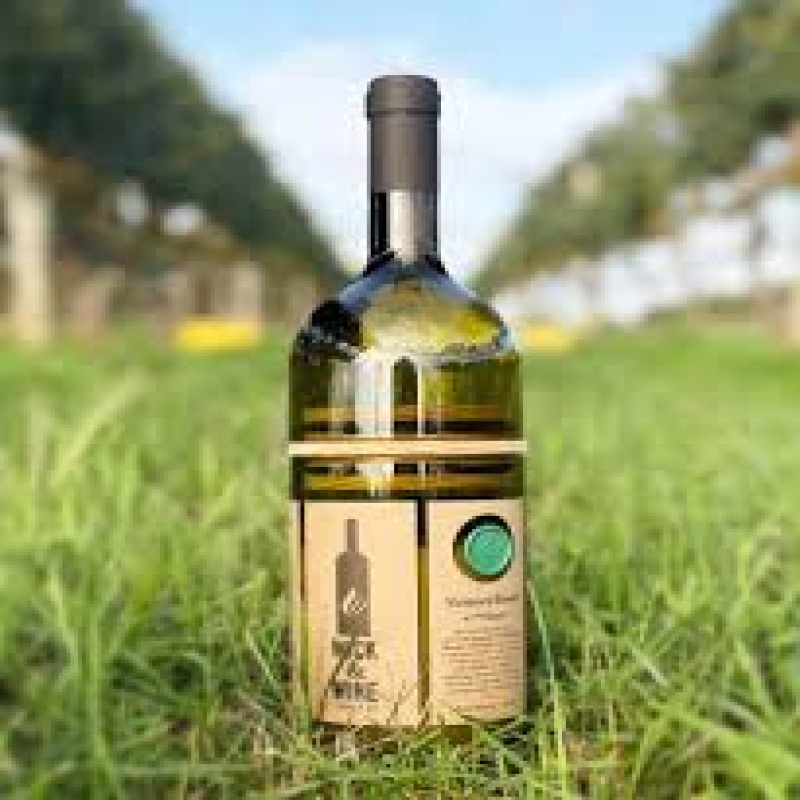wine: (292, 75, 532, 728)
